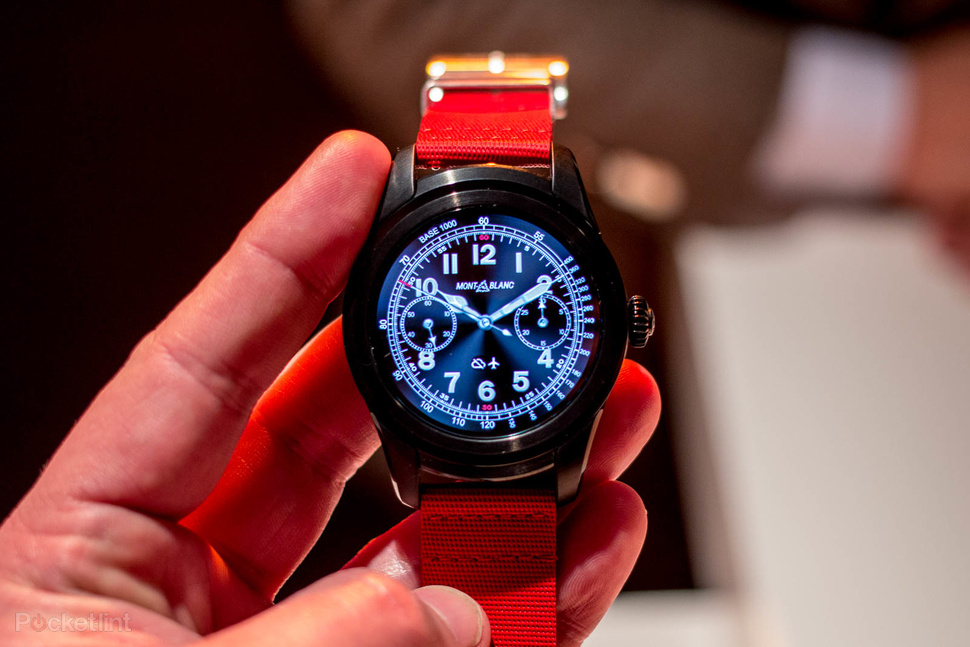clock: (380, 208, 608, 440)
